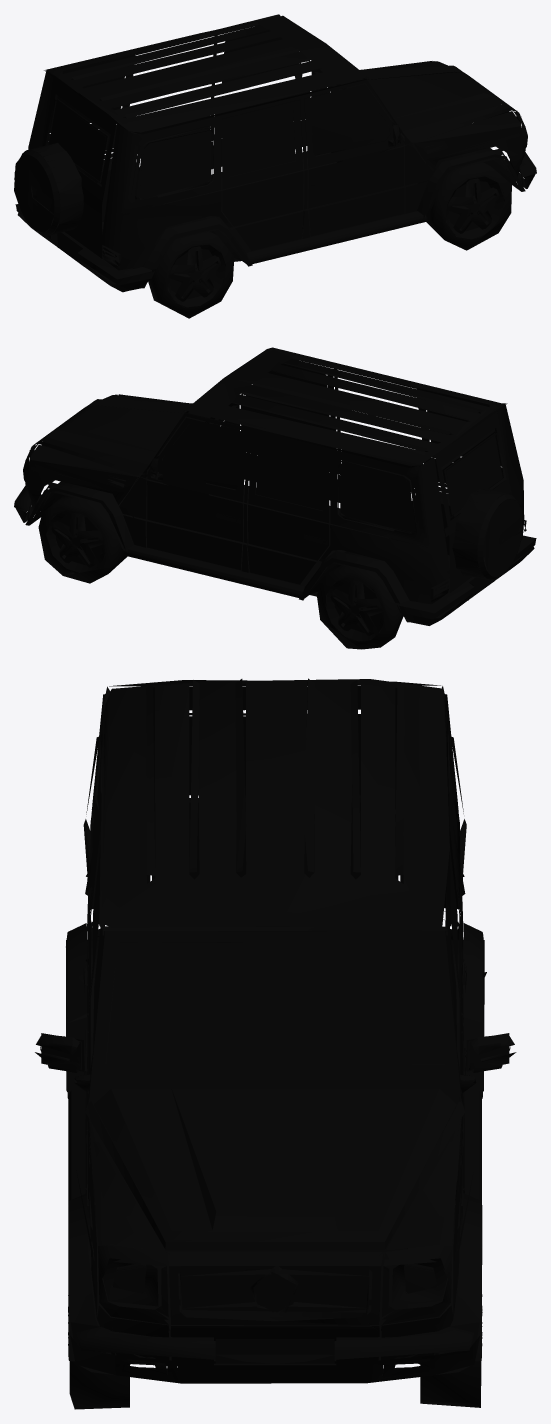
Rendered from v_gwagon_lod1.glb.
3 renders of one model, top to bottom at view 1: azimuth 30°, elevation 25°; view 2: azimuth 150°, elevation 25°; view 3: azimuth 270°, elevation 25°, orthographic. The views are drawn at different scales.
Parts seen in each view (by area): view 1: v_gwagon_lod1; view 2: v_gwagon_lod1; view 3: v_gwagon_lod1.
Part boxes in pixels (left/top/right/bottom): v_gwagon_lod1: left=14, top=14, right=536, bottom=318; v_gwagon_lod1: left=14, top=347, right=536, bottom=649; v_gwagon_lod1: left=35, top=678, right=516, bottom=1409.
Bounding box in the file's own units: 4.73 × 1.98 × 2.14.
Materials: 1 (1 with a texture image).
